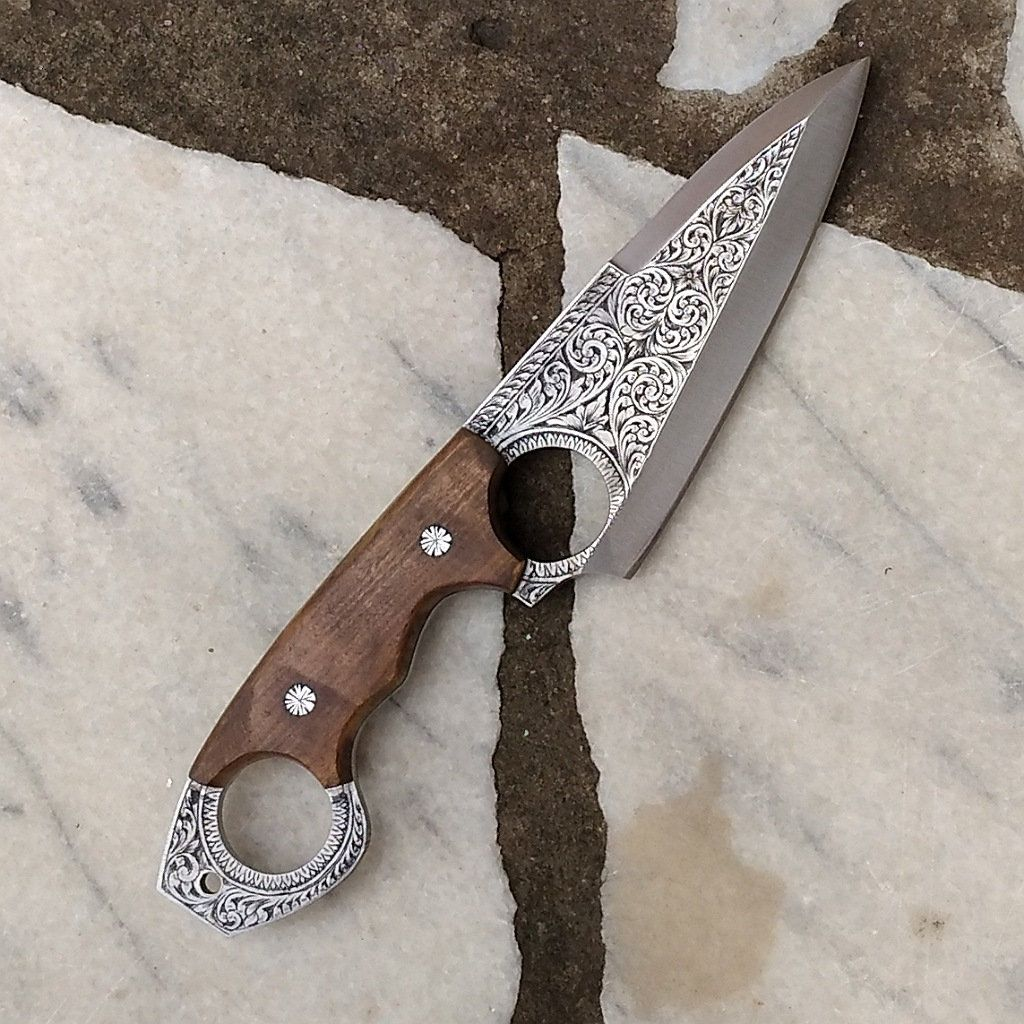knife: (150, 50, 883, 944)
